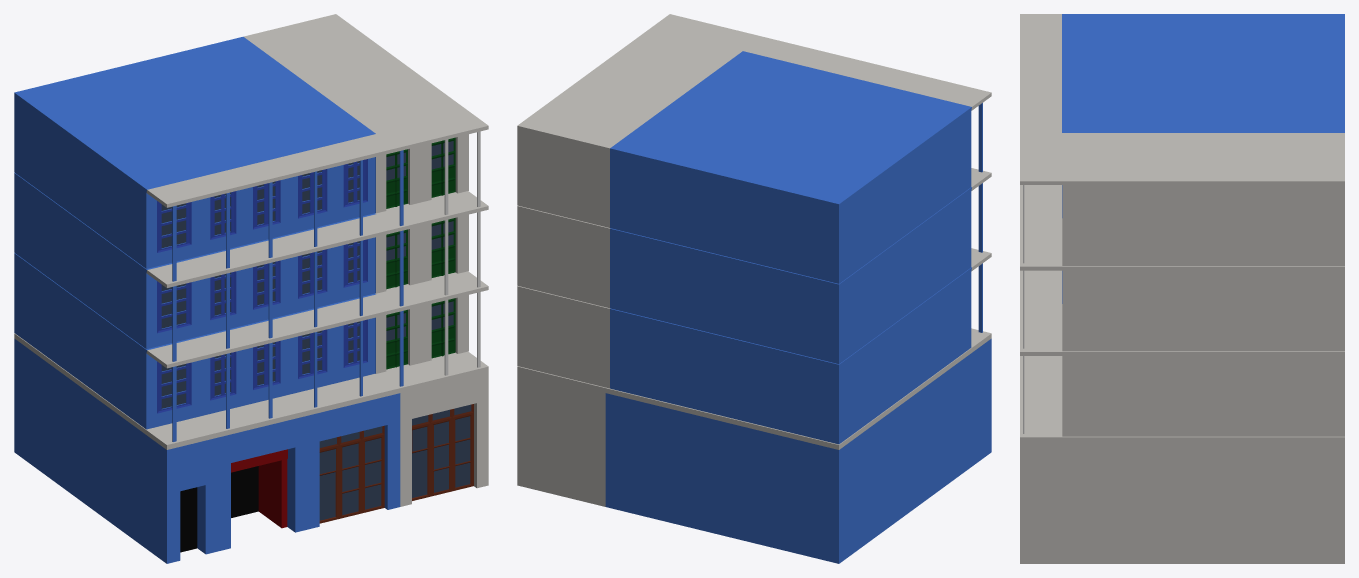
File: B_Old3.fbx
The picture shows the model from 3 angles, left to right: view 1: azimuth 30°, elevation 25°; view 2: azimuth 150°, elevation 25°; view 3: azimuth 270°, elevation 25°; orthographic projection. The views are drawn at different scales.
Visible parts, largest first — view 1: B.Old3_LOD0; view 2: B.Old3_LOD0; view 3: B.Old3_LOD0.
Boxes of the visible parts, bbox=[...] form: B.Old3_LOD0: bbox=[14, 14, 488, 563]; B.Old3_LOD0: bbox=[517, 14, 991, 563]; B.Old3_LOD0: bbox=[1020, 14, 1344, 563].
Size of what is drawn, in the model's own units: 67.79 by 72.39 by 55.69.
